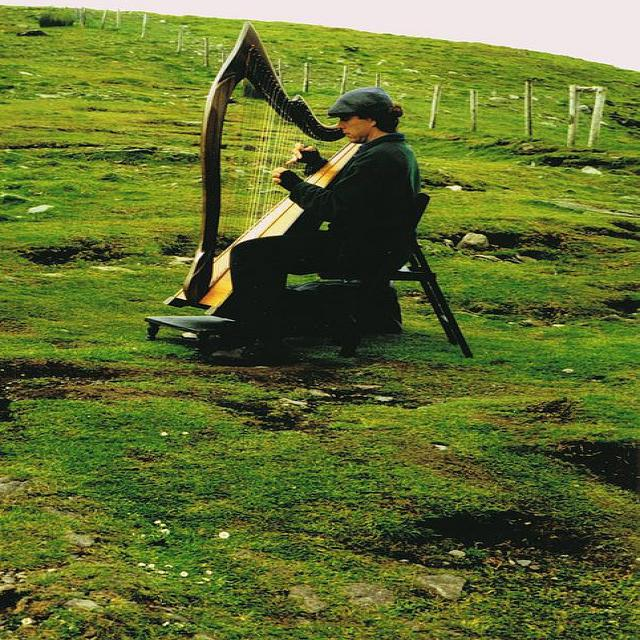harp: (169, 17, 389, 315)
